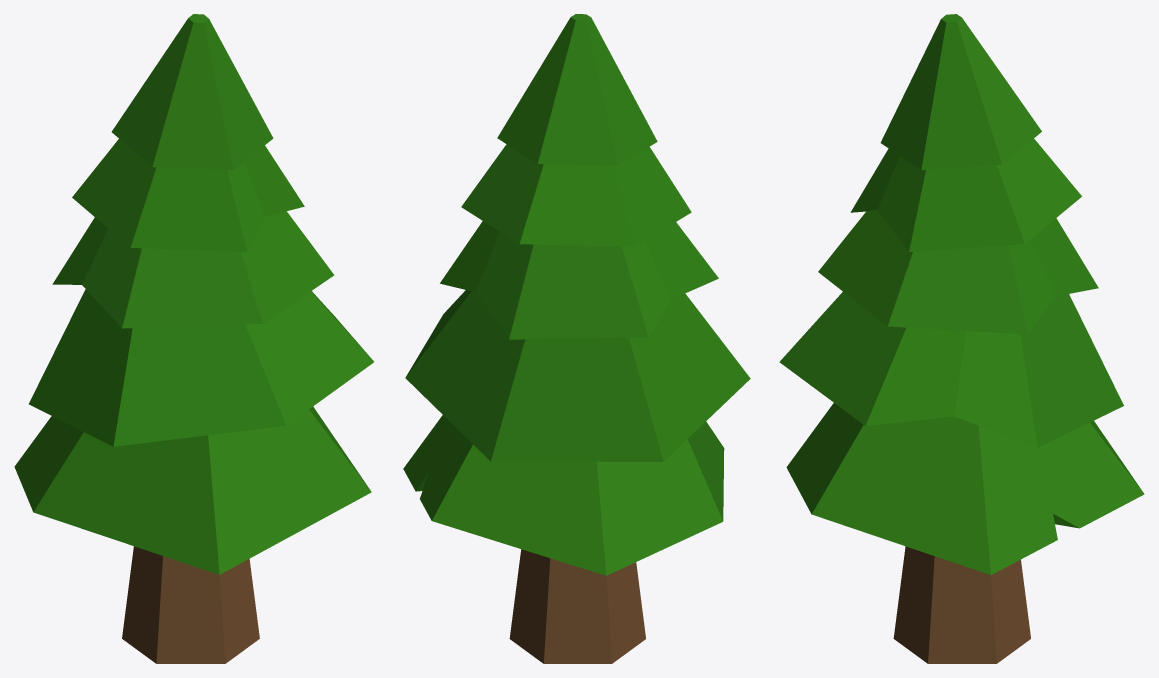
File: spruceTree2.gltf
3 views of the same model, side by side, from view 1: azimuth 30°, elevation 25°; view 2: azimuth 150°, elevation 25°; view 3: azimuth 270°, elevation 25° (orthographic).
Visible parts, largest first — view 1: Cylinder.001, Cylinder.002, Cylinder.003, Cylinder.004, Cylinder.005, Cylinder; view 2: Cylinder.002, Cylinder.001, Cylinder.003, Cylinder.004, Cylinder.005, Cylinder; view 3: Cylinder.001, Cylinder.002, Cylinder.003, Cylinder.004, Cylinder.005, Cylinder.
Boxes of the visible parts, left/top/right/bottom form: Cylinder.001: left=14, top=406, right=371, bottom=574; Cylinder.002: left=29, top=289, right=373, bottom=446; Cylinder.003: left=52, top=211, right=334, bottom=328; Cylinder.004: left=72, top=139, right=304, bottom=252; Cylinder.005: left=111, top=14, right=273, bottom=170; Cylinder: left=122, top=546, right=259, bottom=663; Cylinder.002: left=405, top=290, right=750, bottom=461; Cylinder.001: left=403, top=415, right=724, bottom=575; Cylinder.003: left=440, top=221, right=718, bottom=339; Cylinder.004: left=461, top=144, right=691, bottom=246; Cylinder.005: left=497, top=14, right=657, bottom=165; Cylinder: left=509, top=549, right=645, bottom=663; Cylinder.001: left=786, top=403, right=1144, bottom=574; Cylinder.002: left=779, top=292, right=1123, bottom=447; Cylinder.003: left=818, top=210, right=1098, bottom=334; Cylinder.004: left=850, top=138, right=1081, bottom=251; Cylinder.005: left=880, top=14, right=1041, bottom=170; Cylinder: left=893, top=546, right=1030, bottom=663.
Bounding box in the file's own units: 4.13 × 7.84 × 4.17.
